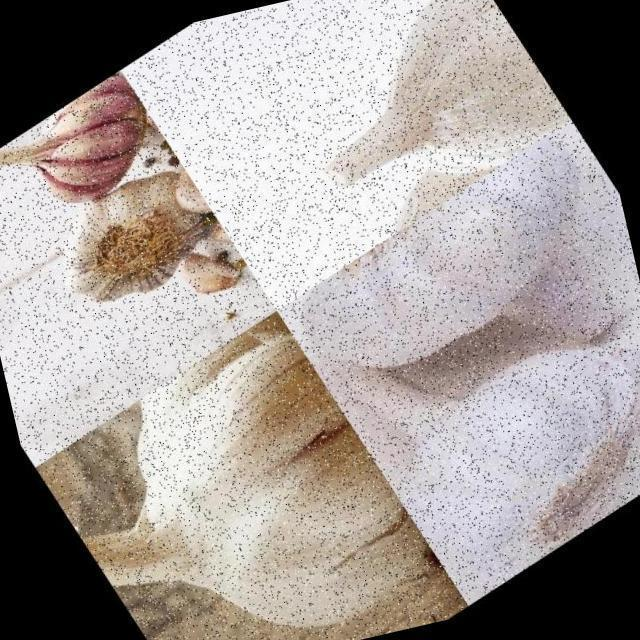garlic: (12, 287, 454, 640), (255, 118, 640, 488), (305, 220, 640, 625), (249, 0, 588, 263), (248, 98, 568, 302), (21, 140, 242, 338), (0, 61, 190, 269), (156, 149, 248, 289), (161, 224, 251, 314)
